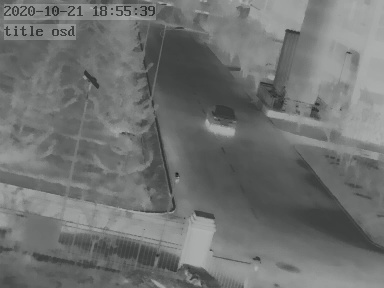vehicle: (203, 103, 237, 135)
